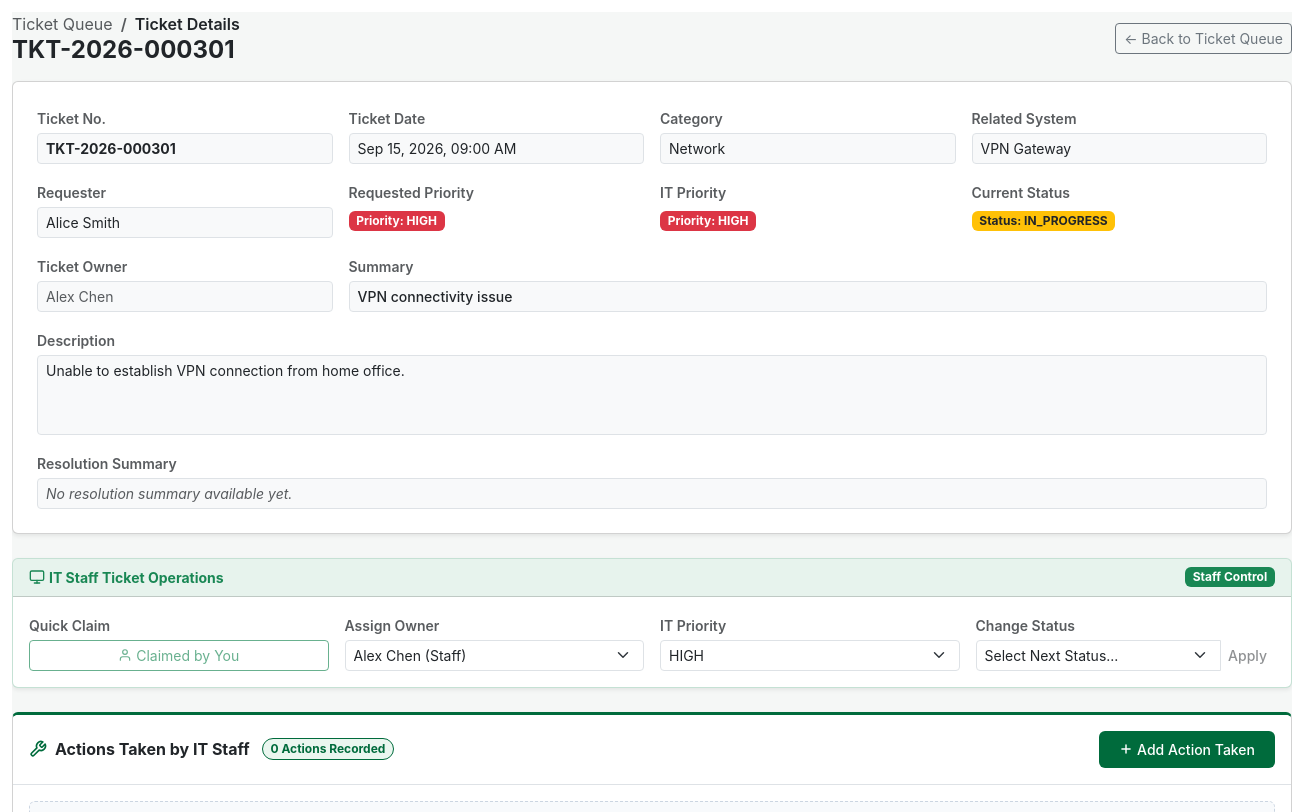
Test: Ticket Workflow Hardening, Resolution Gate & UI Guards (UI-06 / Issue 35) › UI-06f: displays error banner when transitioning to RESOLVED is rejected due to pending child actions (BR-08)
The width and height of the screenshot is (1304, 812).
Select "Resolved" in the dropdown with test id "status-transition-selector": x=1098, y=655 [976,640,1221,671]
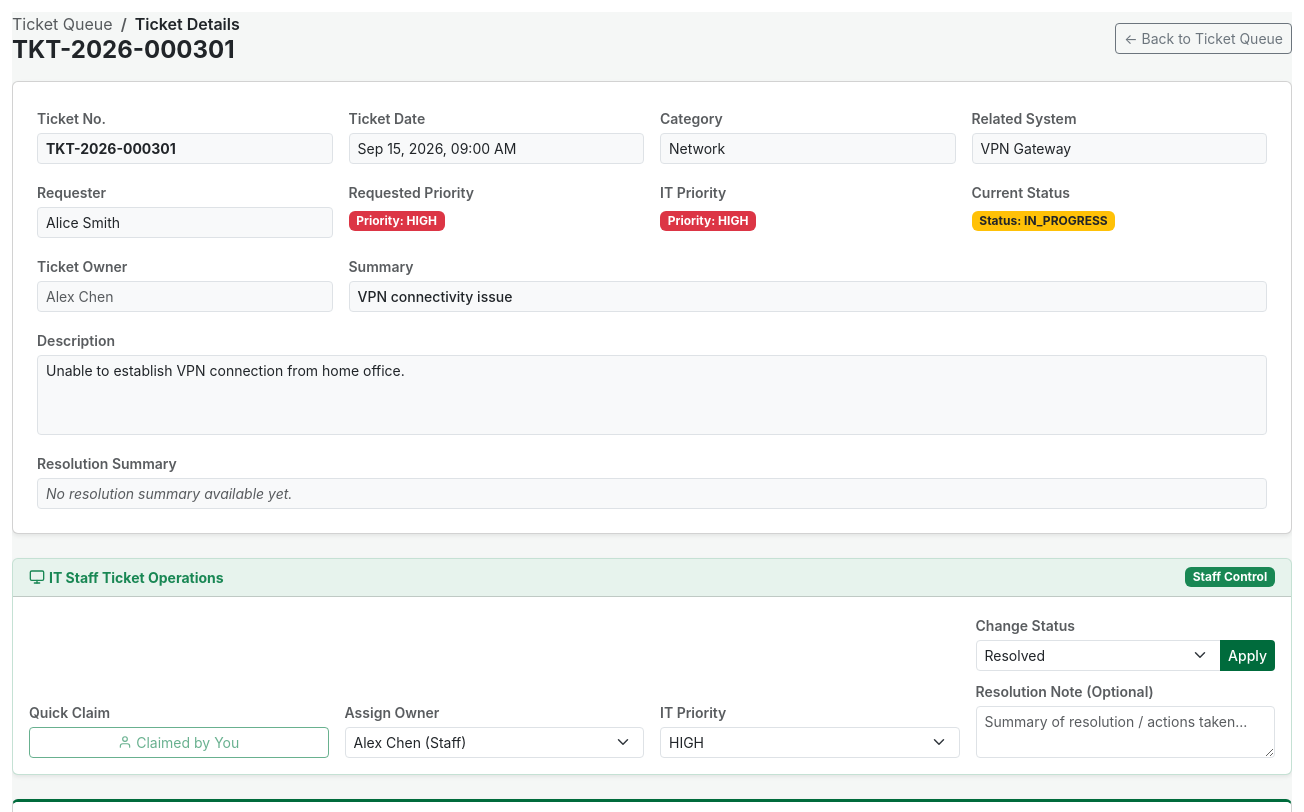
Click the button with test id "apply-status-btn": x=1248, y=655 [1220,640,1275,671]
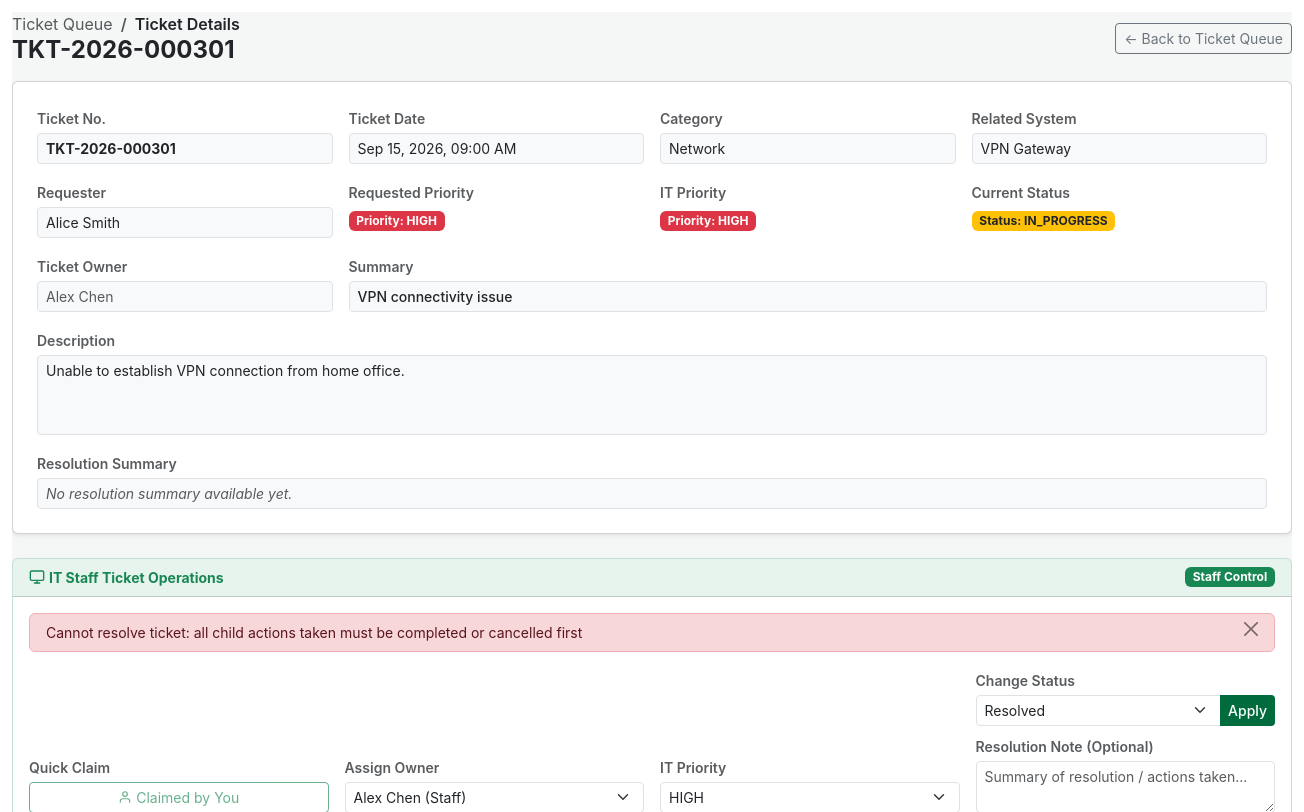
Now the message with test id "operation-feedback" is shown, box [29,613,1275,652]
Now the message with test id "operation-feedback" shows "Cannot resolve ticket: all child actions taken must be completed or cancelled first", box [46,624,582,641]
